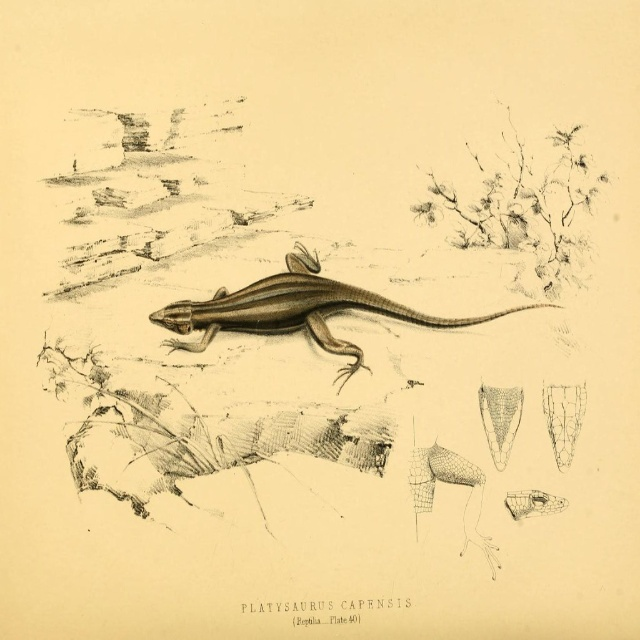Lizard: (147, 239, 506, 392)
